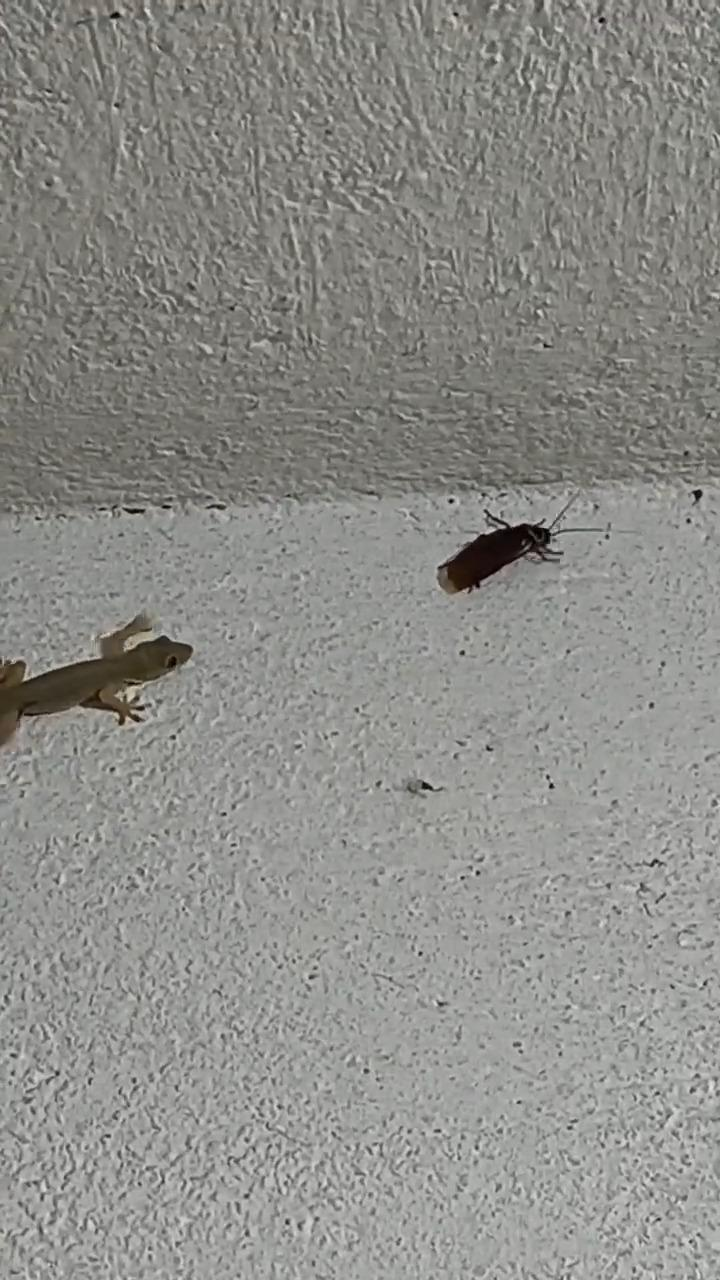cockroach: (415, 486, 627, 596)
lizard: (0, 613, 195, 762)
